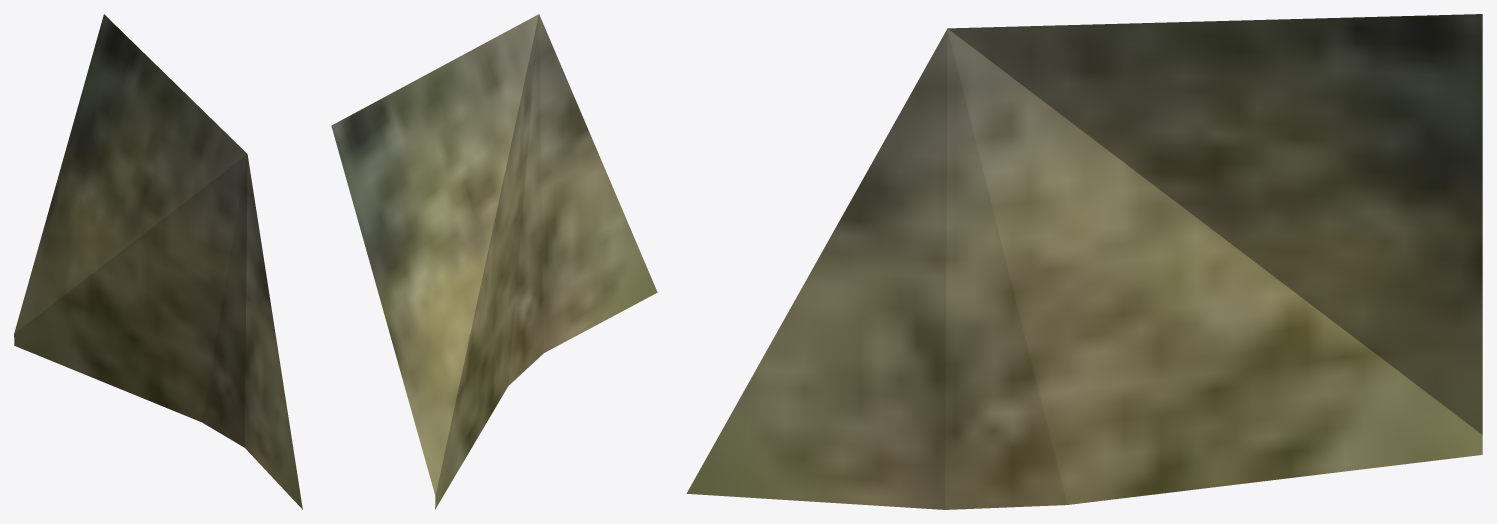
3 renders of one model, left to right at view 1: azimuth 30°, elevation 25°; view 2: azimuth 150°, elevation 25°; view 3: azimuth 270°, elevation 25°, orthographic. The views are drawn at different scales.
Size of the model in its own units: 1.63 by 5.36 by 7.53.
Materials: 1 (1 with a texture image).
